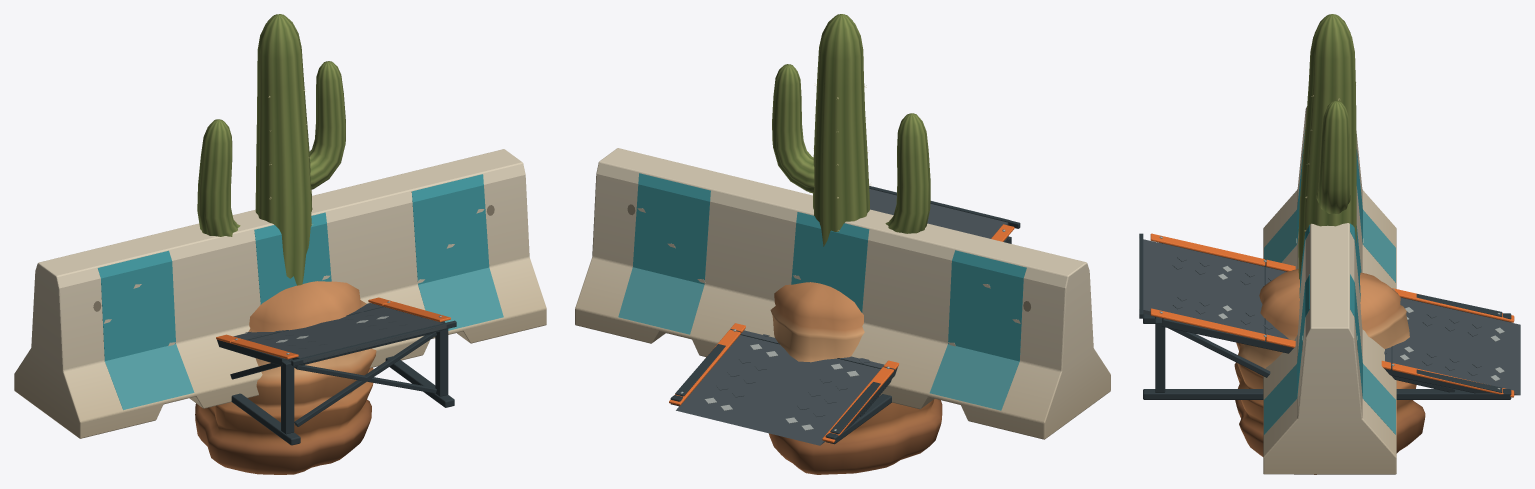
Rendered from track-assets-v1.glb.
3 views of the same model, side by side, from view 1: azimuth 30°, elevation 25°; view 2: azimuth 150°, elevation 25°; view 3: azimuth 270°, elevation 25° (orthographic).
Visible parts, largest first — view 1: DRS_Barrier, DRS_Cactus, DRS_Rock, DRS_Ramp; view 2: DRS_Barrier, DRS_Ramp, DRS_Cactus, DRS_Rock; view 3: DRS_Barrier, DRS_Ramp, DRS_Cactus, DRS_Rock.
Part boxes in pixels (box(x1,y1,x2,y2)): DRS_Barrier: box(14, 149, 546, 438); DRS_Cactus: box(197, 14, 345, 285); DRS_Rock: box(195, 281, 376, 474); DRS_Ramp: box(216, 297, 456, 445); DRS_Barrier: box(575, 148, 1110, 439); DRS_Ramp: box(669, 186, 1020, 445); DRS_Cactus: box(772, 14, 930, 246); DRS_Rock: box(769, 282, 942, 474); DRS_Barrier: box(1263, 107, 1396, 474); DRS_Ramp: box(1139, 233, 1520, 399); DRS_Cactus: box(1298, 14, 1356, 279); DRS_Rock: box(1234, 269, 1425, 474).
Size of the model in its own units: 5.7 by 5 by 4.
